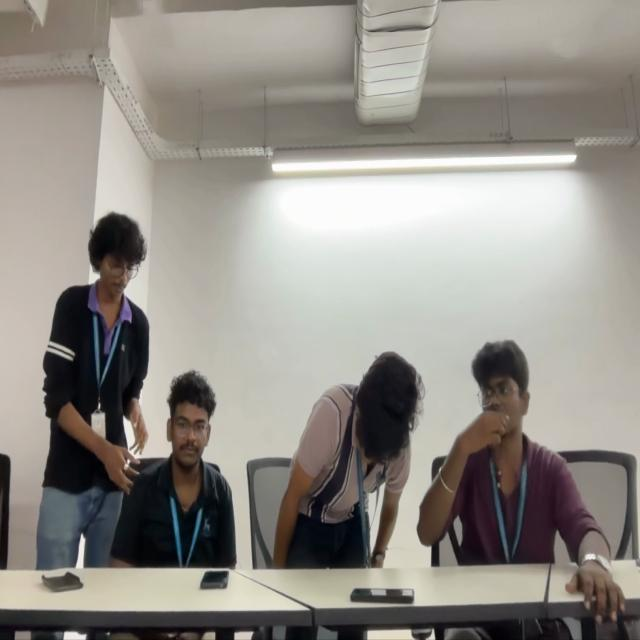Isolated: (419, 346, 616, 564), (274, 350, 412, 562)
socializing: (43, 214, 235, 566)
